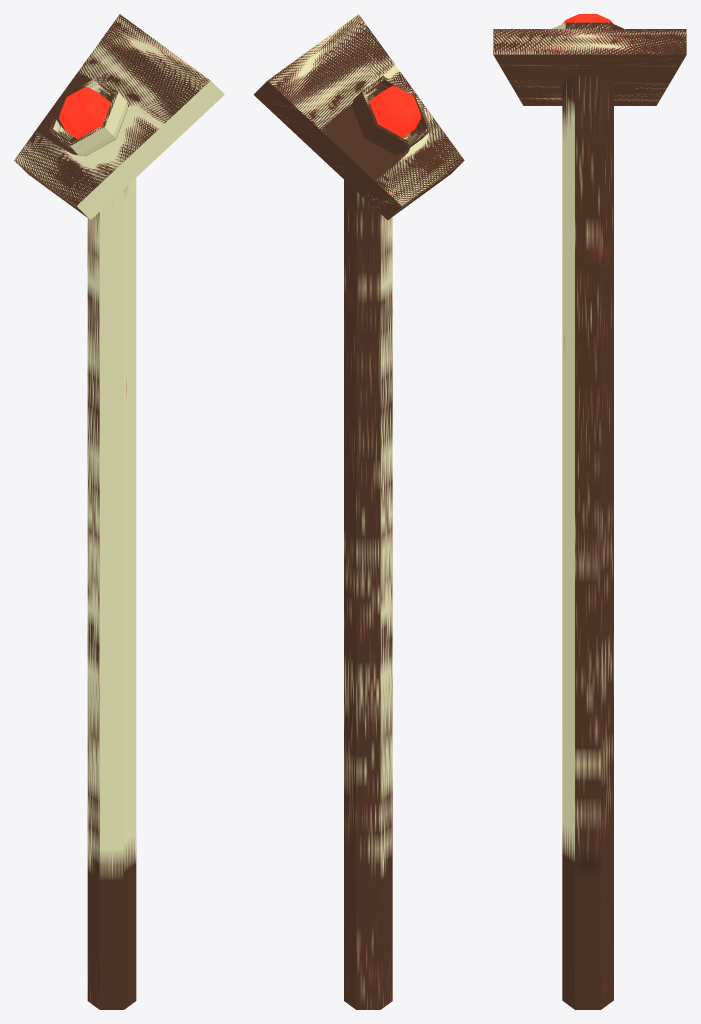
Rendered from Button_RM.glb.
The picture shows the model from 3 angles, left to right: view 1: azimuth 30°, elevation 25°; view 2: azimuth 150°, elevation 25°; view 3: azimuth 270°, elevation 25°; orthographic projection. The views are drawn at different scales.
Visible parts, largest first — view 1: Button_RM; view 2: Button_RM; view 3: Button_RM.
Part boxes in pixels (bbox=[...]): Button_RM: bbox=[14, 14, 224, 1009]; Button_RM: bbox=[253, 14, 464, 1009]; Button_RM: bbox=[493, 14, 686, 1009].
Bounding box in the file's own units: 0.5162 × 3.45 × 0.6057.
2 materials, 1 textured.
